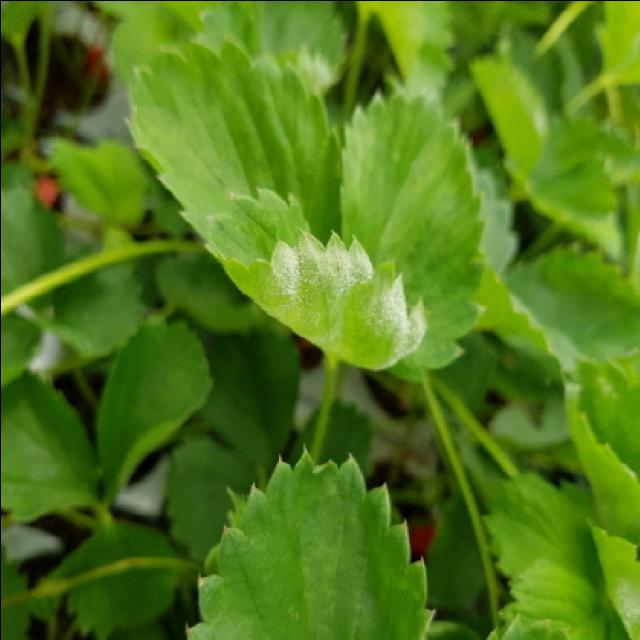Powdery Mildew Leaf: (203, 184, 428, 369)
